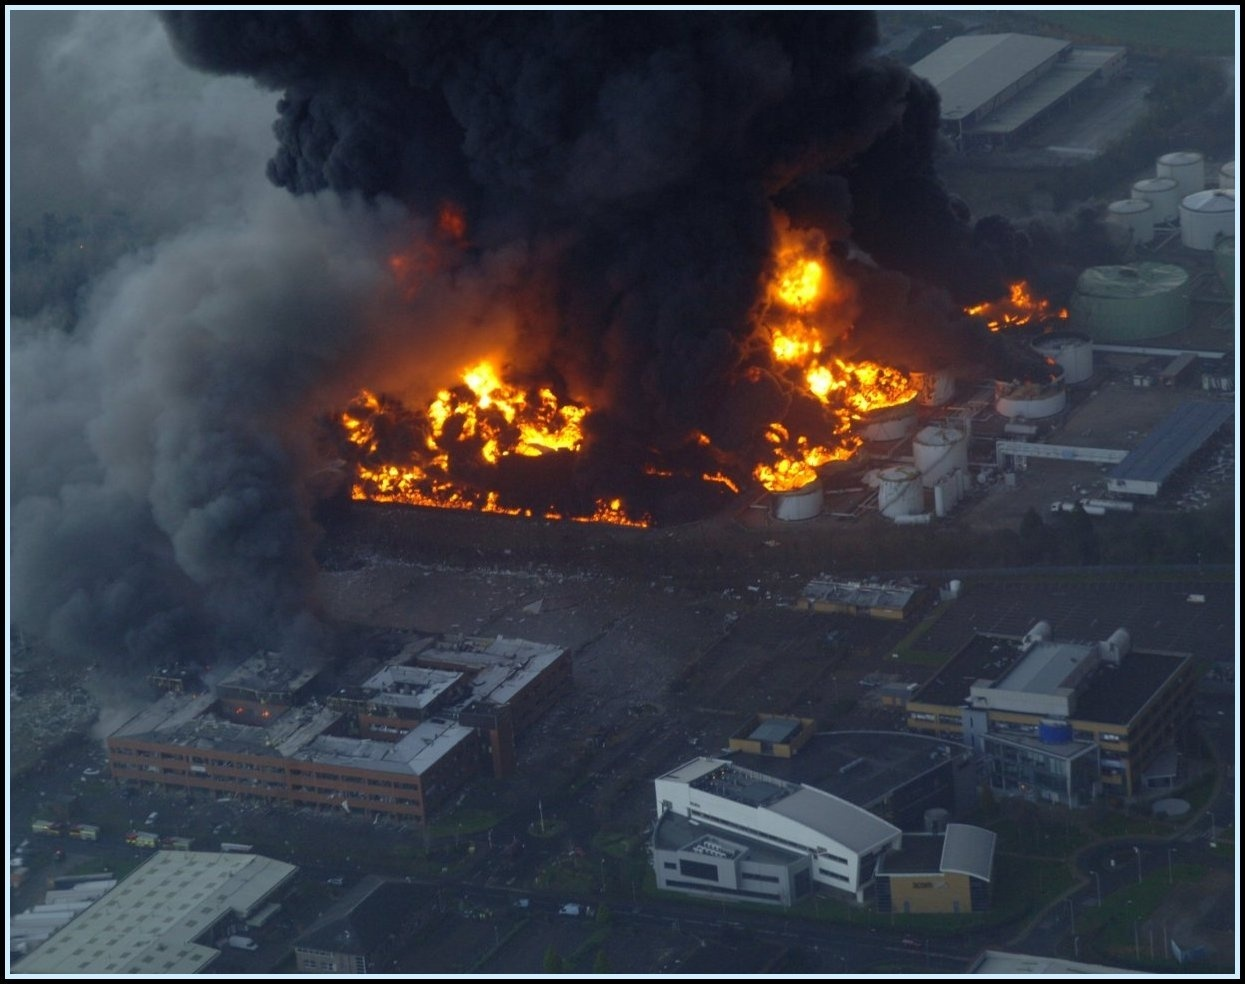fire: (328, 205, 972, 532)
